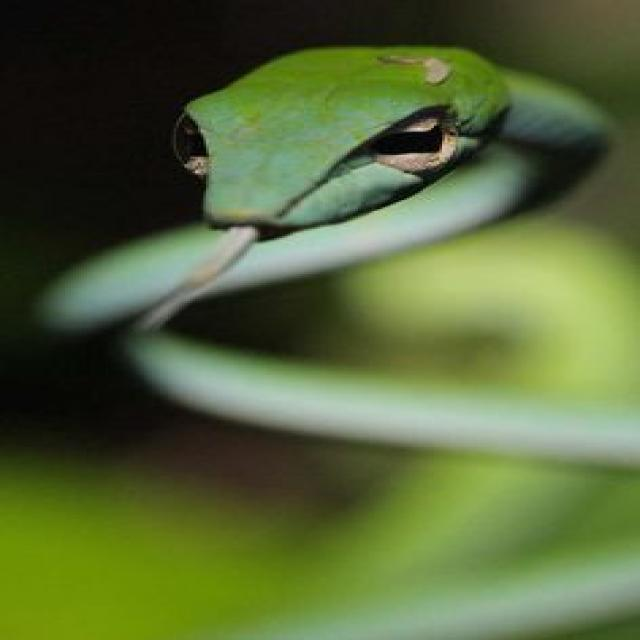Snake: (35, 41, 616, 341)
